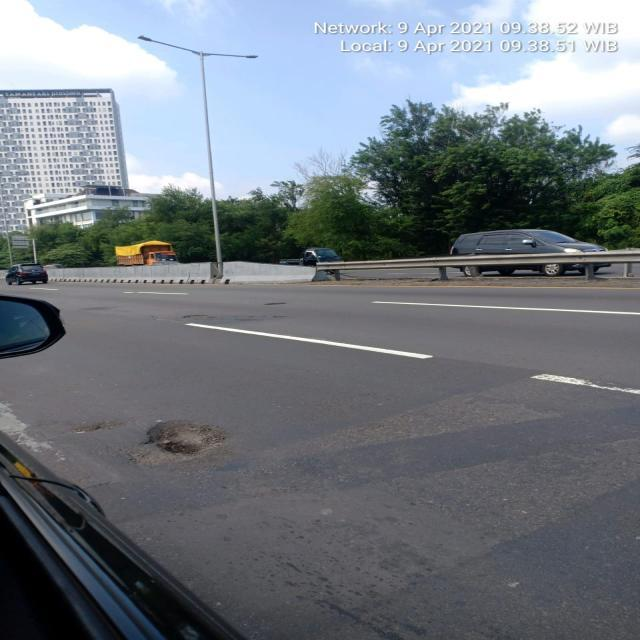Buraco: (123, 418, 230, 470), (66, 418, 128, 436), (181, 313, 218, 322), (262, 300, 288, 308)
